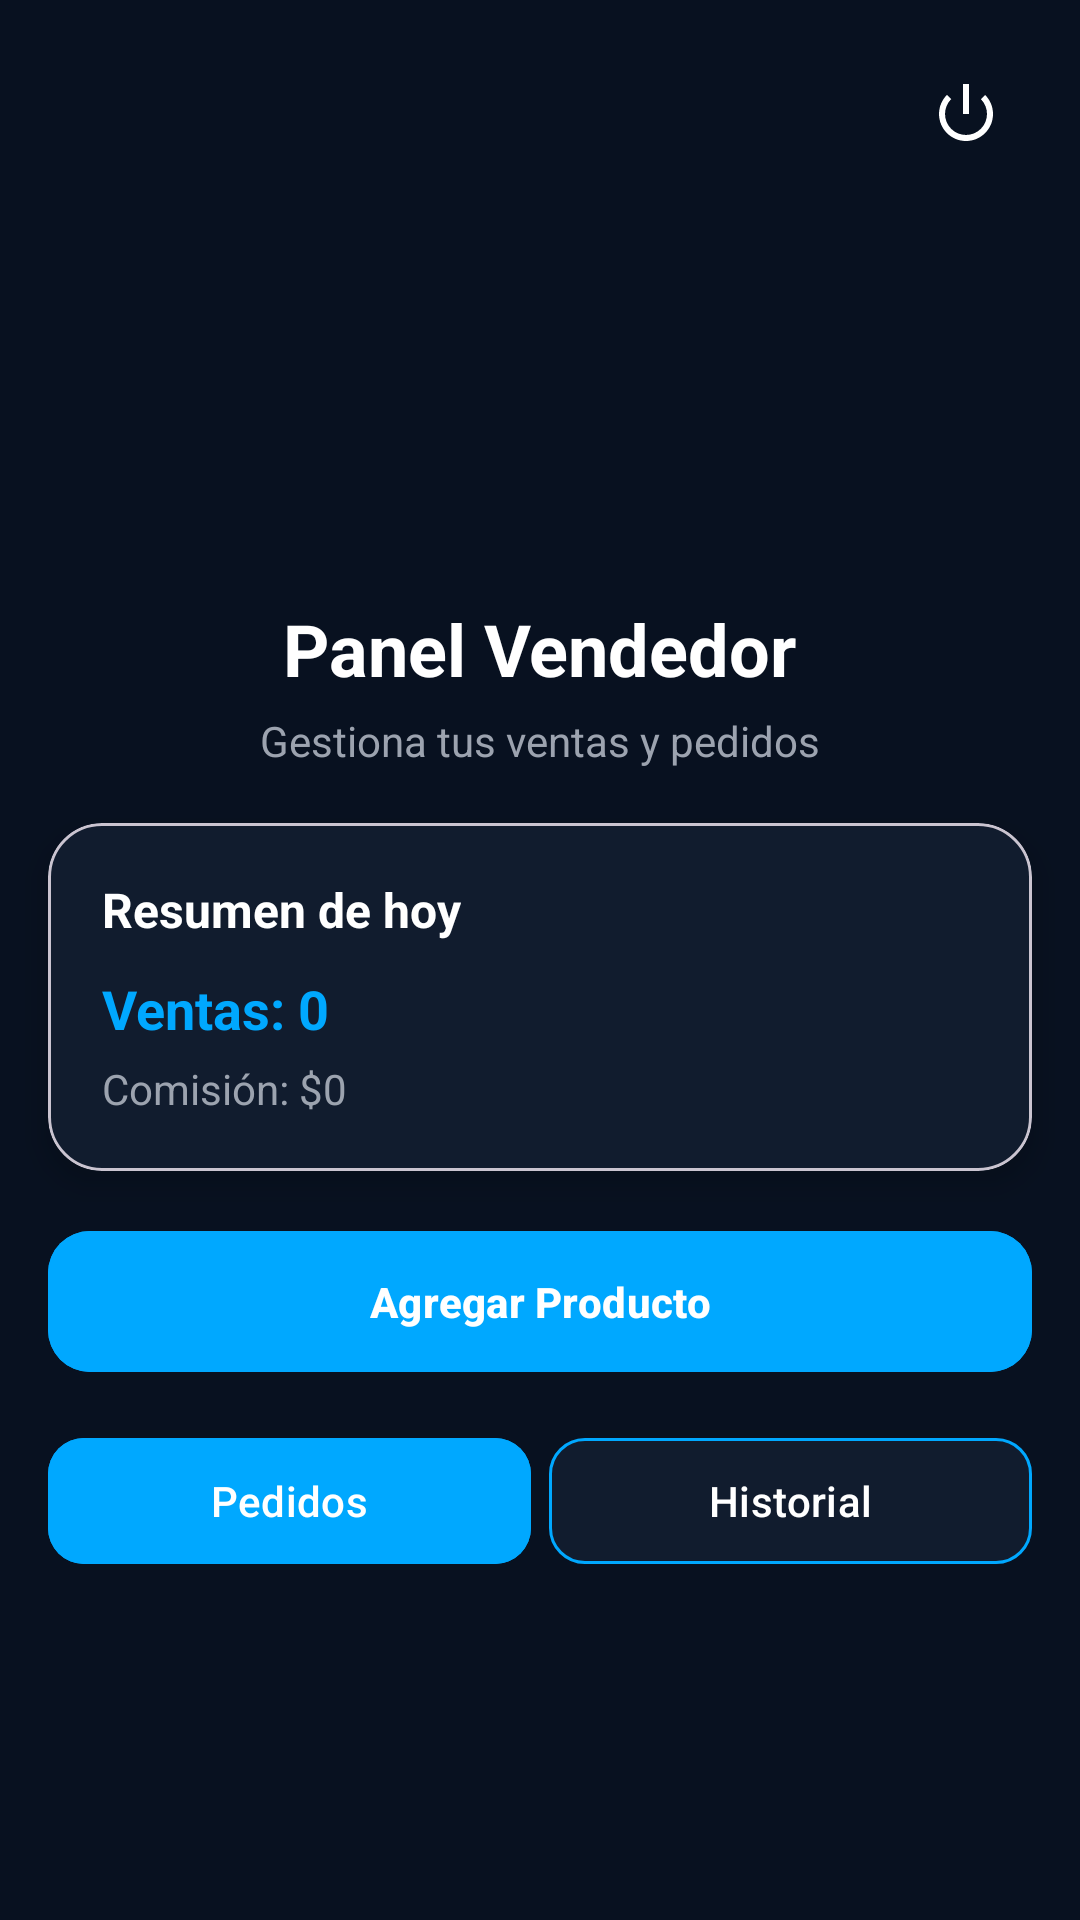

Icons on this 1080x1920 Android screen, each with its box as (x1=x1, y1=y1, x2=x2, y2=y2):
Cerrar sesión: (x1=939, y1=84, x2=993, y2=141)
